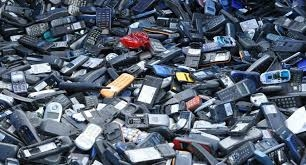metal: (15, 132, 76, 164), (210, 76, 262, 109), (131, 72, 169, 112), (119, 140, 179, 165), (97, 69, 135, 101), (70, 120, 105, 153), (124, 109, 172, 130), (16, 32, 60, 54), (58, 51, 93, 77), (36, 117, 77, 139), (197, 32, 238, 54), (39, 100, 68, 131), (224, 141, 261, 165), (91, 4, 116, 37), (7, 68, 34, 97), (80, 23, 106, 53), (257, 67, 293, 87), (200, 12, 230, 36)
plastic: (117, 29, 152, 52)
